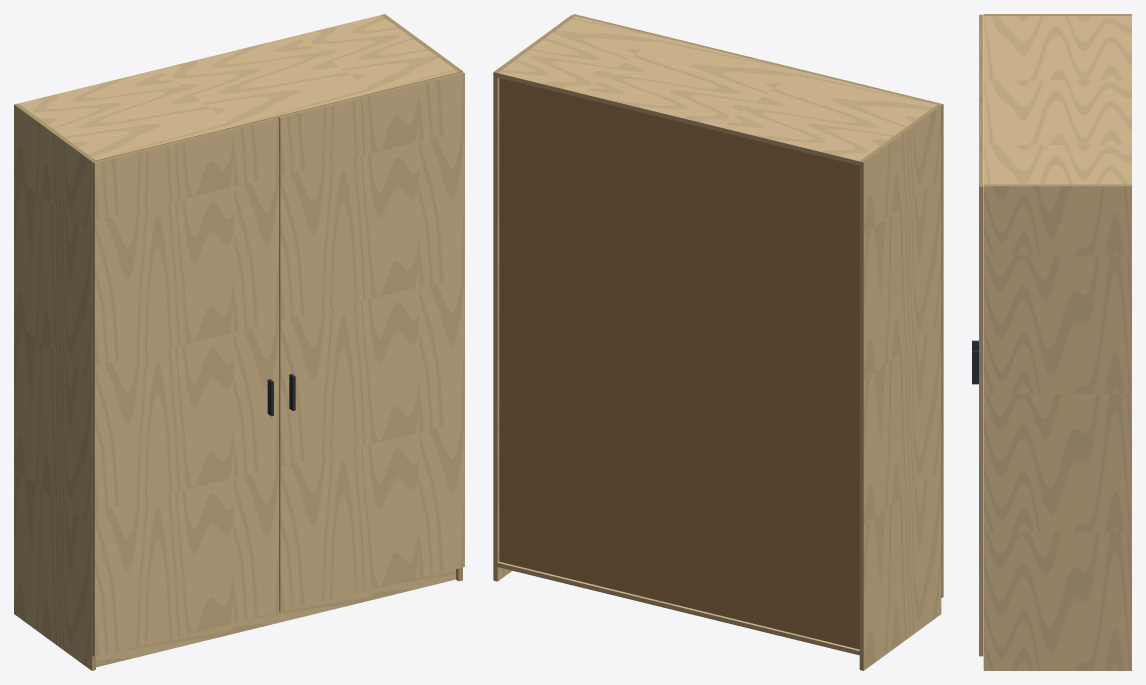
File: SAB-WRD-double.glb
The picture shows the model from 3 angles, left to right: view 1: azimuth 30°, elevation 25°; view 2: azimuth 150°, elevation 25°; view 3: azimuth 270°, elevation 25°; orthographic projection. The views are drawn at different scales.
Parts seen in each view (by area): view 1: door-l:sheet:eyJtIjoicGx5Iiwic2lkZSI6ImZhY2UiLCJzZWVkIjoyLCJ, door-r:sheet:eyJtIjoicGx5Iiwic2lkZSI6ImZhY2UiLCJzZWVkIjoyLCJ, side-l:sheet:eyJtIjoicGx5Iiwic2lkZSI6ImZhY2UiLCJzZWVkIjoxLCJ, top:sheet:eyJtIjoicGx5Iiwic2lkZSI6ImZhY2UiLCJzZWVkIjo2LCJ2ZW, plinth:sheet:eyJtIjoicGx5Iiwic2lkZSI6ImZhY2UiLCJzZWVkIjozLCJ, door-l:sheet:eyJtIjoicGx5Iiwic2lkZSI6ImVkZ2UtbG9uZyIsInNlZWQ, door-r:sheet:eyJtIjoicGx5Iiwic2lkZSI6ImVkZ2UtbG9uZyIsInNlZWQ; view 2: back:sheet:eyJtIjoibWRmIiwic2lkZSI6ImZhY2UiLCJzZWVkIjoxLCJ0a, side-l:sheet:eyJtIjoicGx5Iiwic2lkZSI6ImZhY2UiLCJzZWVkIjoxLCJ, top:sheet:eyJtIjoicGx5Iiwic2lkZSI6ImZhY2UiLCJzZWVkIjo2LCJ2ZW, side-l:sheet:eyJtIjoicGx5Iiwic2lkZSI6ImVkZ2UtbG9uZyIsInNlZWQ, side-r:sheet:eyJtIjoicGx5Iiwic2lkZSI6ImVkZ2UtbG9uZyIsInNlZWQ, top:sheet:eyJtIjoicGx5Iiwic2lkZSI6ImVkZ2UtbG9uZyIsInNlZWQiOj, bottom:sheet:eyJtIjoicGx5Iiwic2lkZSI6ImVkZ2UtbG9uZyIsInNlZWQ, side-r:sheet:eyJtIjoicGx5Iiwic2lkZSI6ImZhY2UiLCJzZWVkIjozLCJ, door-l:sheet:eyJtIjoicGx5Iiwic2lkZSI6ImVkZ2UtbG9uZyIsInNlZWQ, bottom:sheet:eyJtIjoicGx5Iiwic2lkZSI6ImZhY2UiLCJzZWVkIjowLCJ; view 3: side-r:sheet:eyJtIjoicGx5Iiwic2lkZSI6ImZhY2UiLCJzZWVkIjozLCJ, top:sheet:eyJtIjoicGx5Iiwic2lkZSI6ImZhY2UiLCJzZWVkIjo2LCJ2ZW, door-r:sheet:eyJtIjoicGx5Iiwic2lkZSI6ImVkZ2UtbG9uZyIsInNlZWQ, side-r:sheet:eyJtIjoicGx5Iiwic2lkZSI6ImVkZ2UtZW5kIiwic2VlZCI, door-r:sheet:eyJtIjoicGx5Iiwic2lkZSI6ImVkZ2UtZW5kIiwic2VlZCI, door-l:sheet:eyJtIjoicGx5Iiwic2lkZSI6ImVkZ2UtZW5kIiwic2VlZCI, pull, side-l:sheet:eyJtIjoicGx5Iiwic2lkZSI6ImVkZ2UtZW5kIiwic2VlZCI.
Boxes of the visible parts, left/top/right/bottom form: door-l:sheet:eyJtIjoicGx5Iiwic2lkZSI6ImZhY2UiLCJzZWVkIjoyLCJ: left=94, top=119, right=279, bottom=656; door-r:sheet:eyJtIjoicGx5Iiwic2lkZSI6ImZhY2UiLCJzZWVkIjoyLCJ: left=280, top=73, right=464, bottom=611; side-l:sheet:eyJtIjoicGx5Iiwic2lkZSI6ImZhY2UiLCJzZWVkIjoxLCJ: left=14, top=105, right=91, bottom=670; top:sheet:eyJtIjoicGx5Iiwic2lkZSI6ImZhY2UiLCJzZWVkIjo2LCJ2ZW: left=18, top=15, right=457, bottom=160; plinth:sheet:eyJtIjoicGx5Iiwic2lkZSI6ImZhY2UiLCJzZWVkIjozLCJ: left=96, top=569, right=455, bottom=667; door-l:sheet:eyJtIjoicGx5Iiwic2lkZSI6ImVkZ2UtbG9uZyIsInNlZWQ: left=92, top=162, right=94, bottom=656; door-r:sheet:eyJtIjoicGx5Iiwic2lkZSI6ImVkZ2UtbG9uZyIsInNlZWQ: left=278, top=117, right=280, bottom=611; back:sheet:eyJtIjoibWRmIiwic2lkZSI6ImZhY2UiLCJzZWVkIjoxLCJ0a: left=499, top=78, right=859, bottom=649; side-l:sheet:eyJtIjoicGx5Iiwic2lkZSI6ImZhY2UiLCJzZWVkIjoxLCJ: left=863, top=106, right=941, bottom=670; top:sheet:eyJtIjoicGx5Iiwic2lkZSI6ImZhY2UiLCJzZWVkIjo2LCJ2ZW: left=498, top=16, right=936, bottom=161; side-l:sheet:eyJtIjoicGx5Iiwic2lkZSI6ImVkZ2UtbG9uZyIsInNlZWQ: left=859, top=161, right=863, bottom=670; side-r:sheet:eyJtIjoicGx5Iiwic2lkZSI6ImVkZ2UtbG9uZyIsInNlZWQ: left=493, top=72, right=497, bottom=581; top:sheet:eyJtIjoicGx5Iiwic2lkZSI6ImVkZ2UtbG9uZyIsInNlZWQiOj: left=497, top=73, right=859, bottom=165; bottom:sheet:eyJtIjoicGx5Iiwic2lkZSI6ImVkZ2UtbG9uZyIsInNlZWQ: left=497, top=563, right=859, bottom=655; side-r:sheet:eyJtIjoicGx5Iiwic2lkZSI6ImZhY2UiLCJzZWVkIjozLCJ: left=497, top=77, right=511, bottom=581; door-l:sheet:eyJtIjoicGx5Iiwic2lkZSI6ImVkZ2UtbG9uZyIsInNlZWQ: left=941, top=104, right=943, bottom=597; bottom:sheet:eyJtIjoicGx5Iiwic2lkZSI6ImZhY2UiLCJzZWVkIjowLCJ: left=498, top=561, right=859, bottom=650; side-r:sheet:eyJtIjoicGx5Iiwic2lkZSI6ImZhY2UiLCJzZWVkIjozLCJ: left=983, top=186, right=1131, bottom=670; top:sheet:eyJtIjoicGx5Iiwic2lkZSI6ImZhY2UiLCJzZWVkIjo2LCJ2ZW: left=983, top=16, right=1131, bottom=184; door-r:sheet:eyJtIjoicGx5Iiwic2lkZSI6ImVkZ2UtbG9uZyIsInNlZWQ: left=979, top=186, right=983, bottom=656; side-r:sheet:eyJtIjoicGx5Iiwic2lkZSI6ImVkZ2UtZW5kIiwic2VlZCI: left=983, top=184, right=1131, bottom=186; door-r:sheet:eyJtIjoicGx5Iiwic2lkZSI6ImVkZ2UtZW5kIiwic2VlZCI: left=979, top=100, right=983, bottom=186; door-l:sheet:eyJtIjoicGx5Iiwic2lkZSI6ImVkZ2UtZW5kIiwic2VlZCI: left=979, top=14, right=983, bottom=100; pull: left=972, top=340, right=978, bottom=384; side-l:sheet:eyJtIjoicGx5Iiwic2lkZSI6ImVkZ2UtZW5kIiwic2VlZCI: left=983, top=14, right=1131, bottom=15.
Size of the model in its own units: 1.6 by 2.1 by 0.6271.
Materials: 34 (33 with a texture image).
